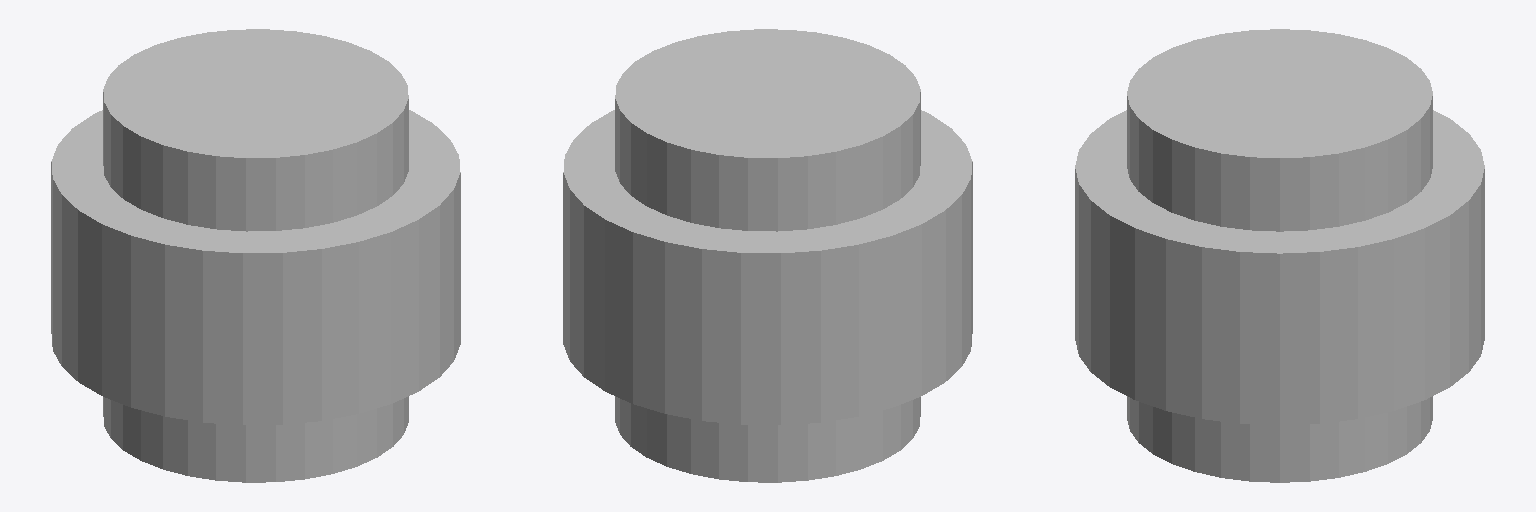
Rendered from pipe_connector.obj.
3 views of the same model, side by side, from view 1: azimuth 30°, elevation 25°; view 2: azimuth 150°, elevation 25°; view 3: azimuth 270°, elevation 25° (orthographic).
Visible parts, largest first — view 1: Цилиндр; view 2: Цилиндр; view 3: Цилиндр.
Part boxes in pixels (left/top/right/bottom): Цилиндр: left=51, top=29, right=460, bottom=482; Цилиндр: left=563, top=29, right=972, bottom=482; Цилиндр: left=1075, top=29, right=1484, bottom=482.
Size of the model in its own units: 0.7738 by 0.6757 by 0.7738.